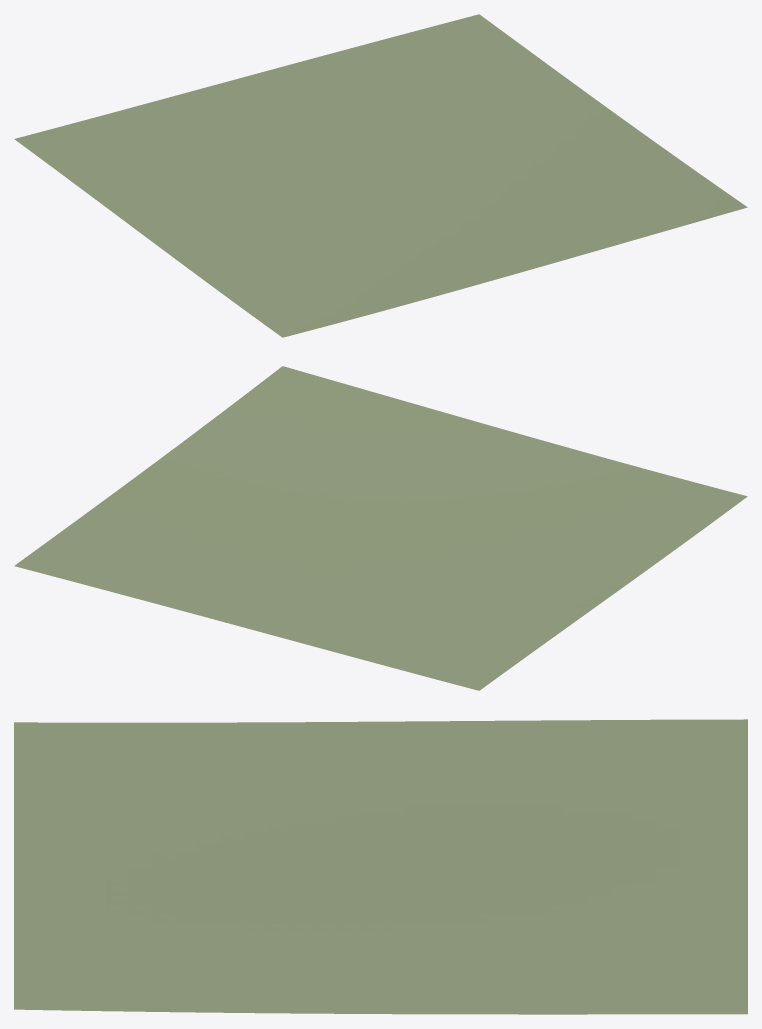
File: expanse-18-12.glb
The picture shows the model from 3 angles, top to bottom: view 1: azimuth 30°, elevation 25°; view 2: azimuth 150°, elevation 25°; view 3: azimuth 270°, elevation 25°; orthographic projection. The views are drawn at different scales.
Visible parts, largest first — view 1: expanse-18-12; view 2: expanse-18-12; view 3: expanse-18-12.
Part boxes in pixels (x1,y1,x2,y2): expanse-18-12: (14, 14, 747, 337); expanse-18-12: (14, 366, 747, 690); expanse-18-12: (14, 719, 747, 1014).
Size of the model in its own units: 256 by 8.96 by 256.
